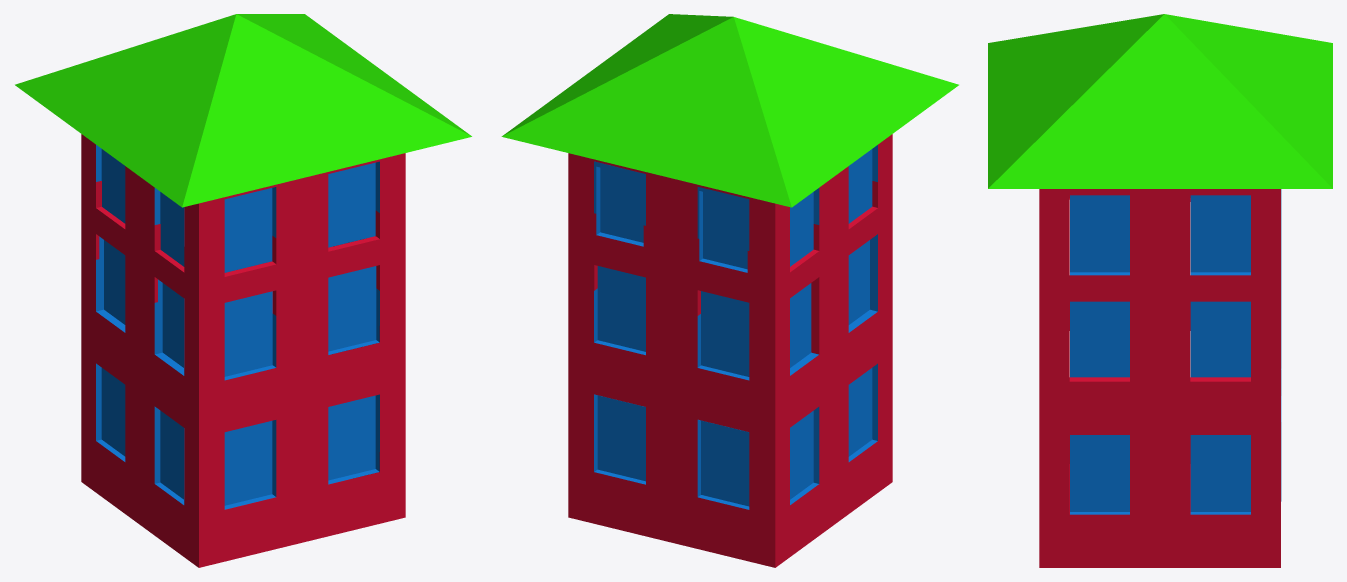
Rendered from shop.glb.
3 views of the same model, side by side, from view 1: azimuth 30°, elevation 25°; view 2: azimuth 150°, elevation 25°; view 3: azimuth 270°, elevation 25° (orthographic). The views are drawn at different scales.
Parts seen in each view (by area): view 1: Cube, Cube.001, Cube.002; view 2: Cube, Cube.001, Cube.002; view 3: Cube, Cube.001, Cube.002.
Boxes of the visible parts, left/top/right/bottom form: Cube: left=81, top=134, right=405, bottom=567; Cube.001: left=15, top=14, right=471, bottom=207; Cube.002: left=96, top=145, right=379, bottom=509; Cube: left=568, top=134, right=892, bottom=567; Cube.001: left=501, top=14, right=958, bottom=207; Cube.002: left=594, top=145, right=877, bottom=509; Cube: left=1039, top=189, right=1280, bottom=567; Cube.001: left=988, top=14, right=1332, bottom=188; Cube.002: left=1070, top=189, right=1281, bottom=514.
Size of the model in its own units: 10.05 by 16.06 by 10.05.
